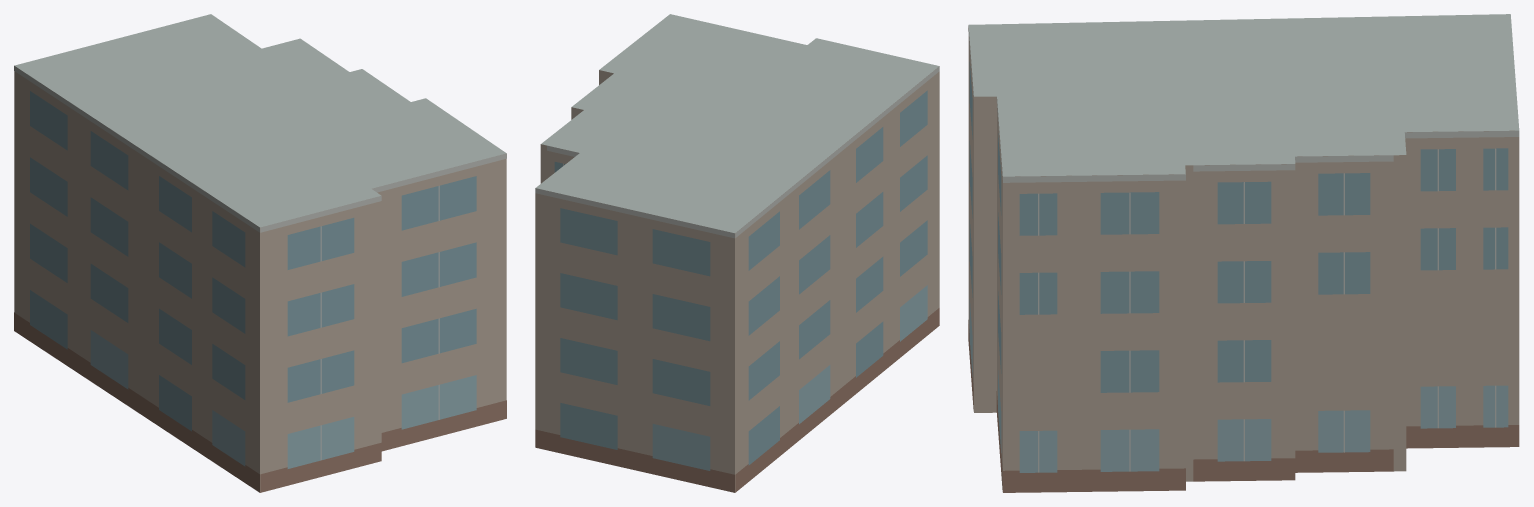
Rendered from survey-upis-32758746.glb.
3 views of the same model, side by side, from view 1: azimuth 30°, elevation 25°; view 2: azimuth 150°, elevation 25°; view 3: azimuth 270°, elevation 25° (orthographic). The views are drawn at different scales.
Visible parts, largest first — view 1: survey-upis-32758746.tmp; view 2: survey-upis-32758746.tmp; view 3: survey-upis-32758746.tmp.
Boxes of the visible parts, x1,y1,x2,y2 form: survey-upis-32758746.tmp: (14,14,506,492); survey-upis-32758746.tmp: (535,14,939,492); survey-upis-32758746.tmp: (968,14,1519,492).
Size of the model in its own units: 13.52 by 12.25 by 19.35.
